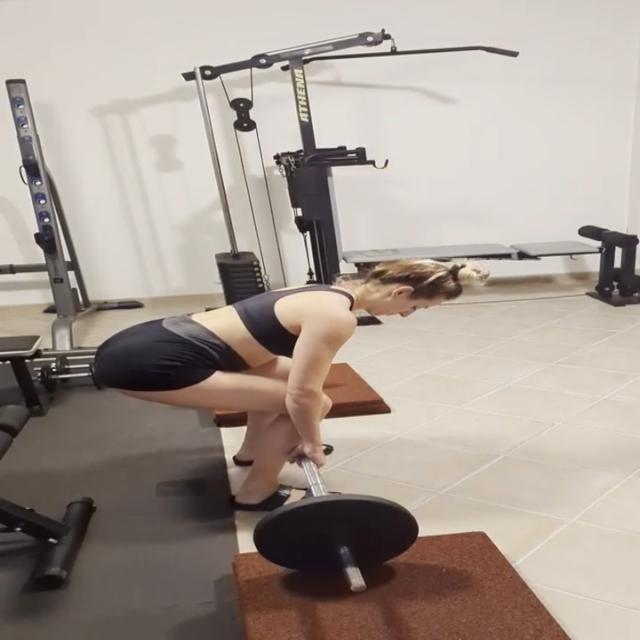barbell: (251, 491, 424, 600)
